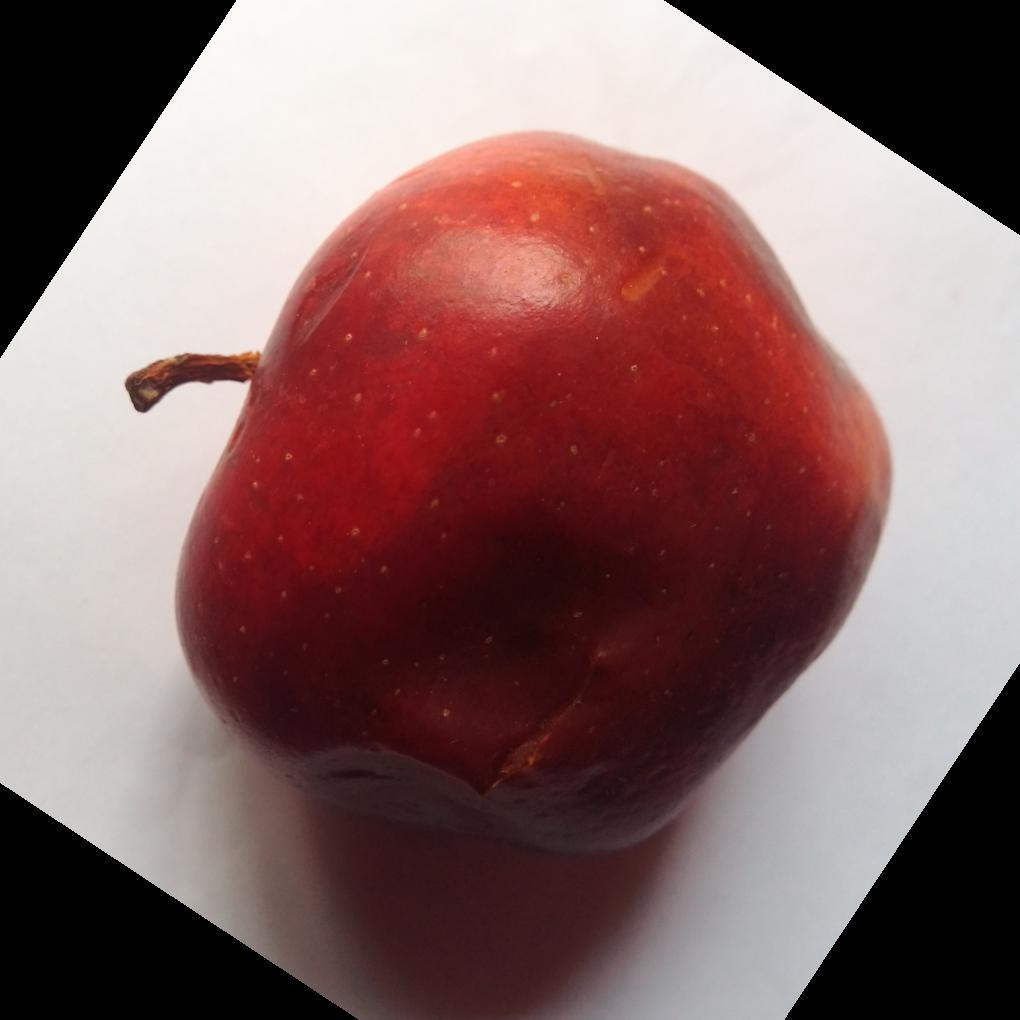FreshOrange: (130, 131, 894, 859)
